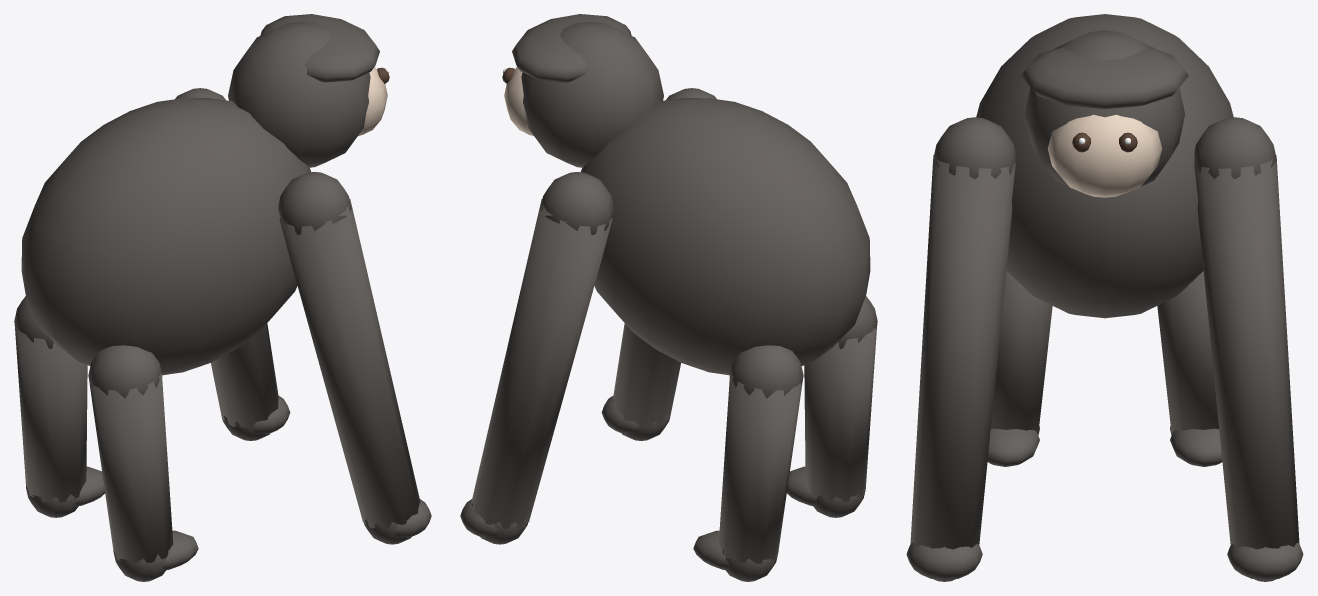
Rendered from chimpanzee.glb.
3 renders of one model, left to right at view 1: azimuth 30°, elevation 25°; view 2: azimuth 150°, elevation 25°; view 3: azimuth 270°, elevation 25°, orthographic. The views are drawn at different scales.
Visible parts, largest first — view 1: e.007, e; view 2: e.007, e; view 3: e.007, e.
Boxes of the visible parts, x1,y1,x2,y2 form: e.007: [14, 88, 431, 581]; e: [228, 14, 389, 167]; e.007: [460, 88, 877, 581]; e: [502, 14, 663, 167]; e.007: [906, 14, 1303, 581]; e: [1021, 30, 1188, 197].
Size of the model in its own units: 1.18 by 1.54 by 1.04.
